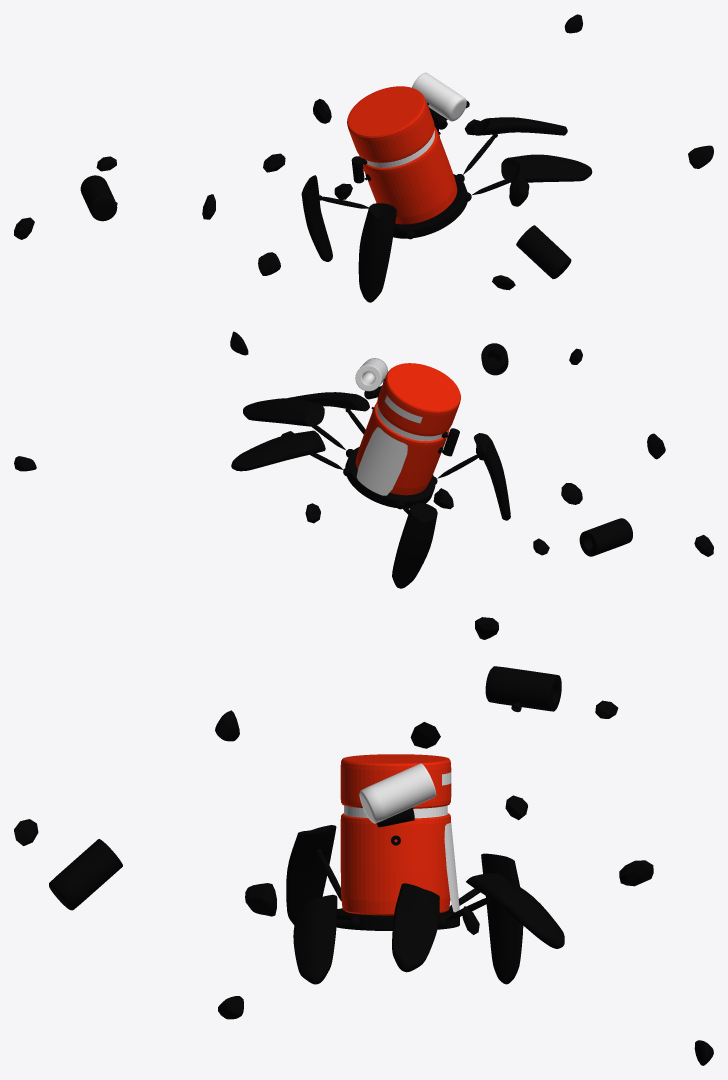
The model's file is Turret_Destruida.fbx.
The picture shows the model from 3 angles, top to bottom: view 1: azimuth 30°, elevation 25°; view 2: azimuth 150°, elevation 25°; view 3: azimuth 270°, elevation 25°; orthographic projection. The views are drawn at different scales.
Parts seen in each view (by area): view 1: Turret Destruida; view 2: Turret Destruida; view 3: Turret Destruida.
Boxes of the visible parts, left/top/right/bottom form: Turret Destruida: left=14, top=14, right=713, bottom=302; Turret Destruida: left=14, top=331, right=713, bottom=588; Turret Destruida: left=14, top=617, right=713, bottom=1065.
Bounding box in the file's own units: 2066 × 592 × 1443.
